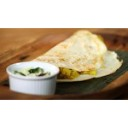dosa: (29, 29, 124, 76)
